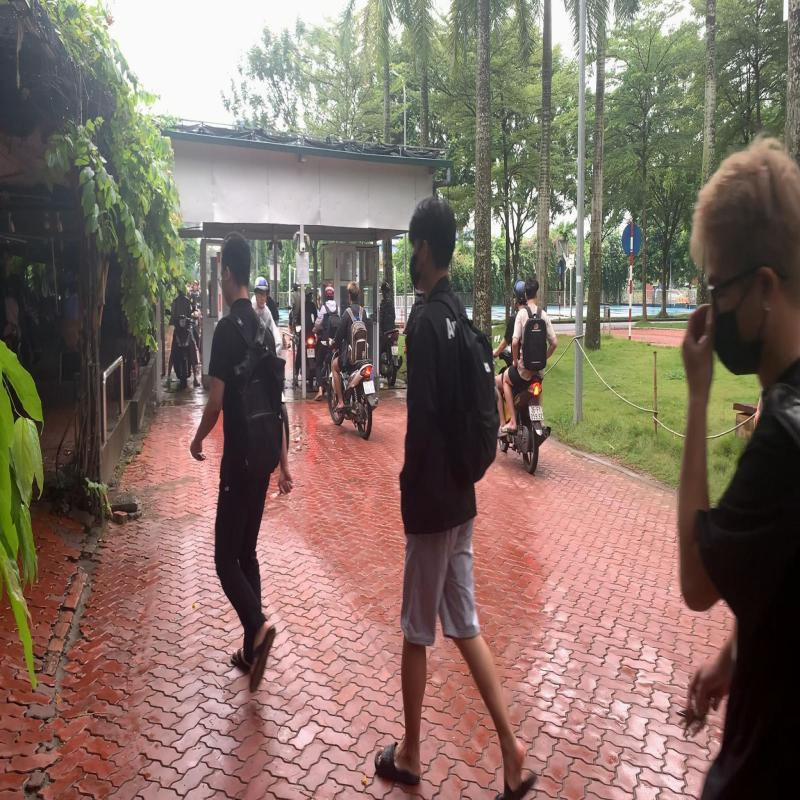nohelmet: (524, 275, 540, 304), (347, 279, 360, 303)
